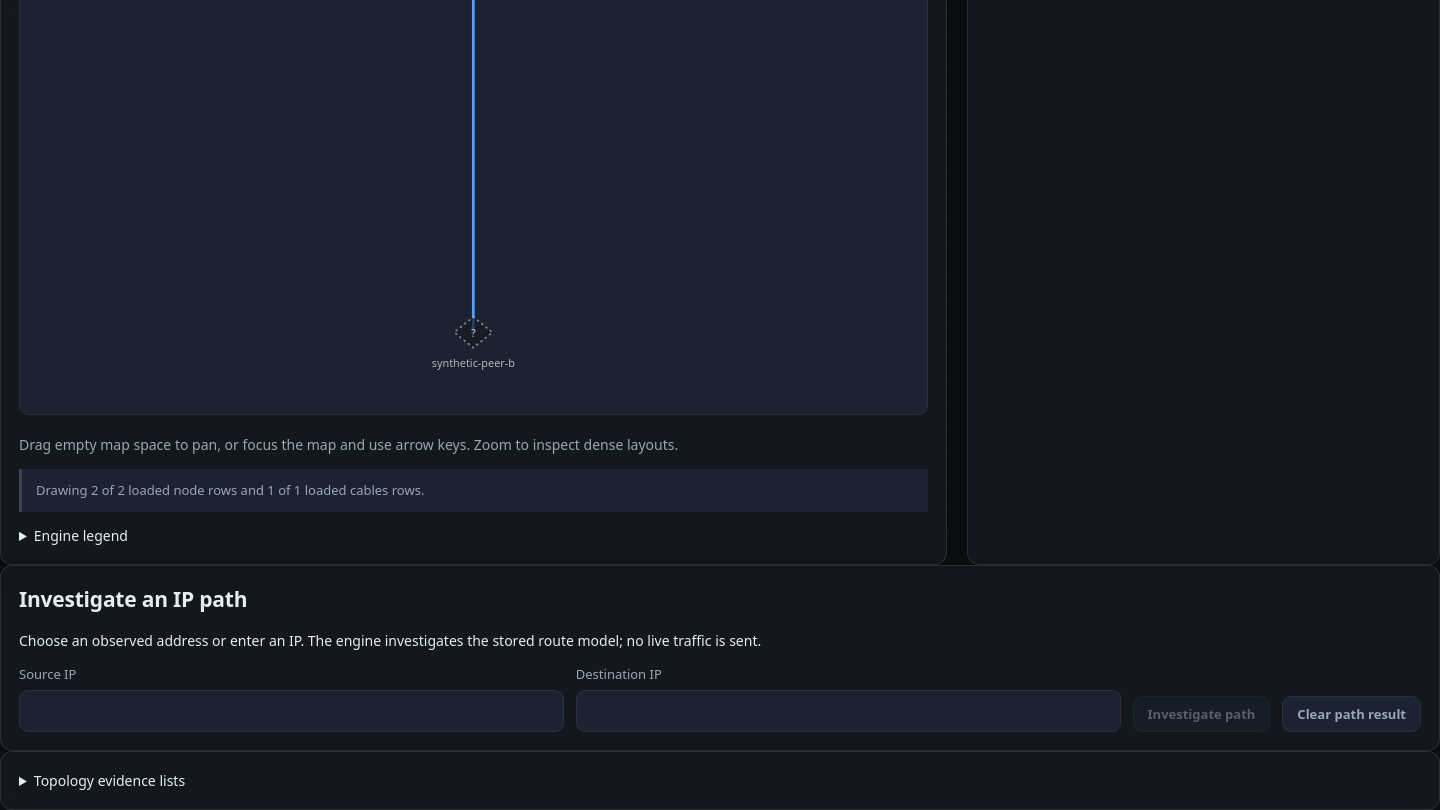
Test: Engine-owned topology and path screen › clears path/source presentation when the server identifies different snapshot authority
(page scrolled)
Type "192.0.2.10" into the field labelled "Source IP" at (291, 712), box left=19, top=690, right=564, bottom=732
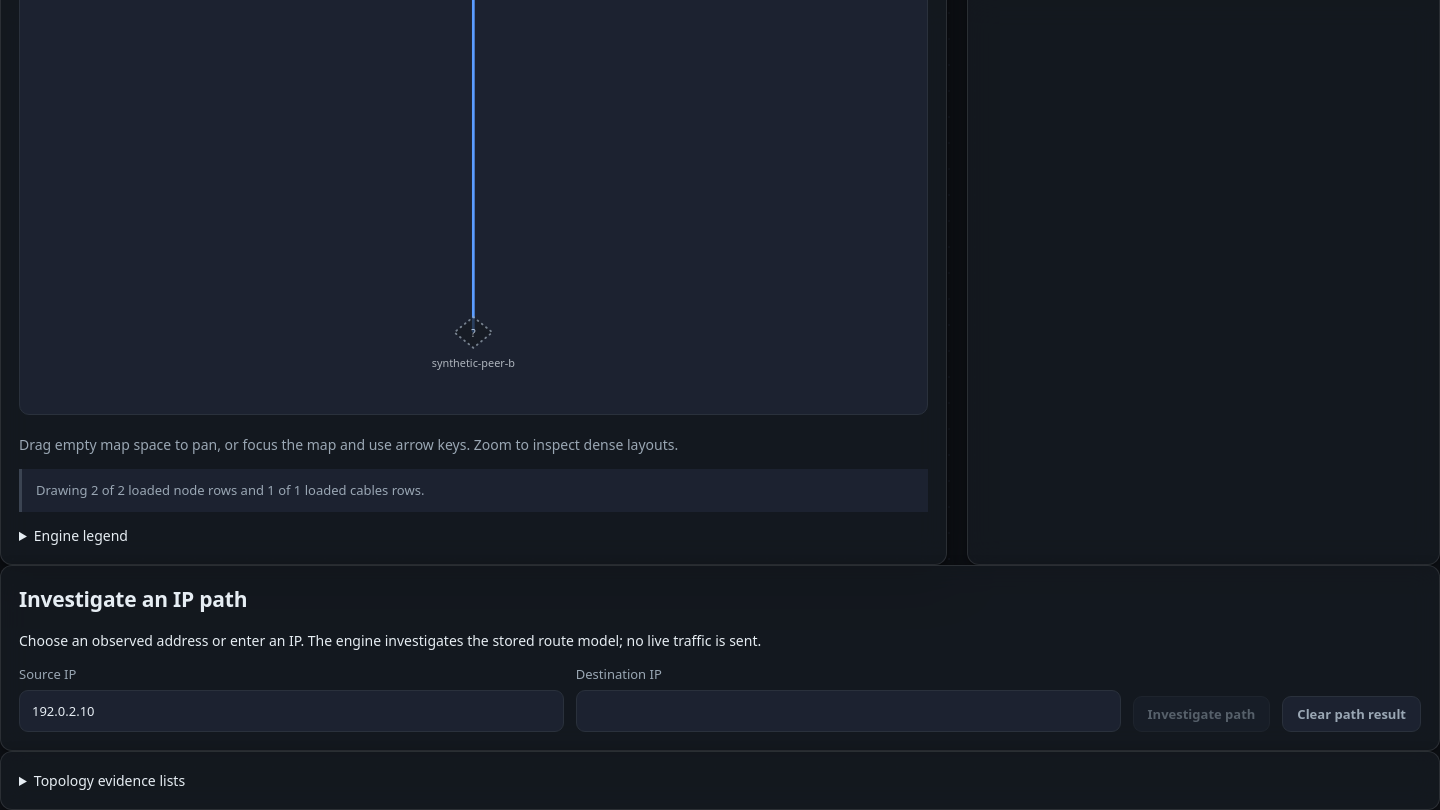
Type "198.51.100.10" into the field labelled "Destination IP" at (848, 712), box left=576, top=690, right=1121, bottom=732
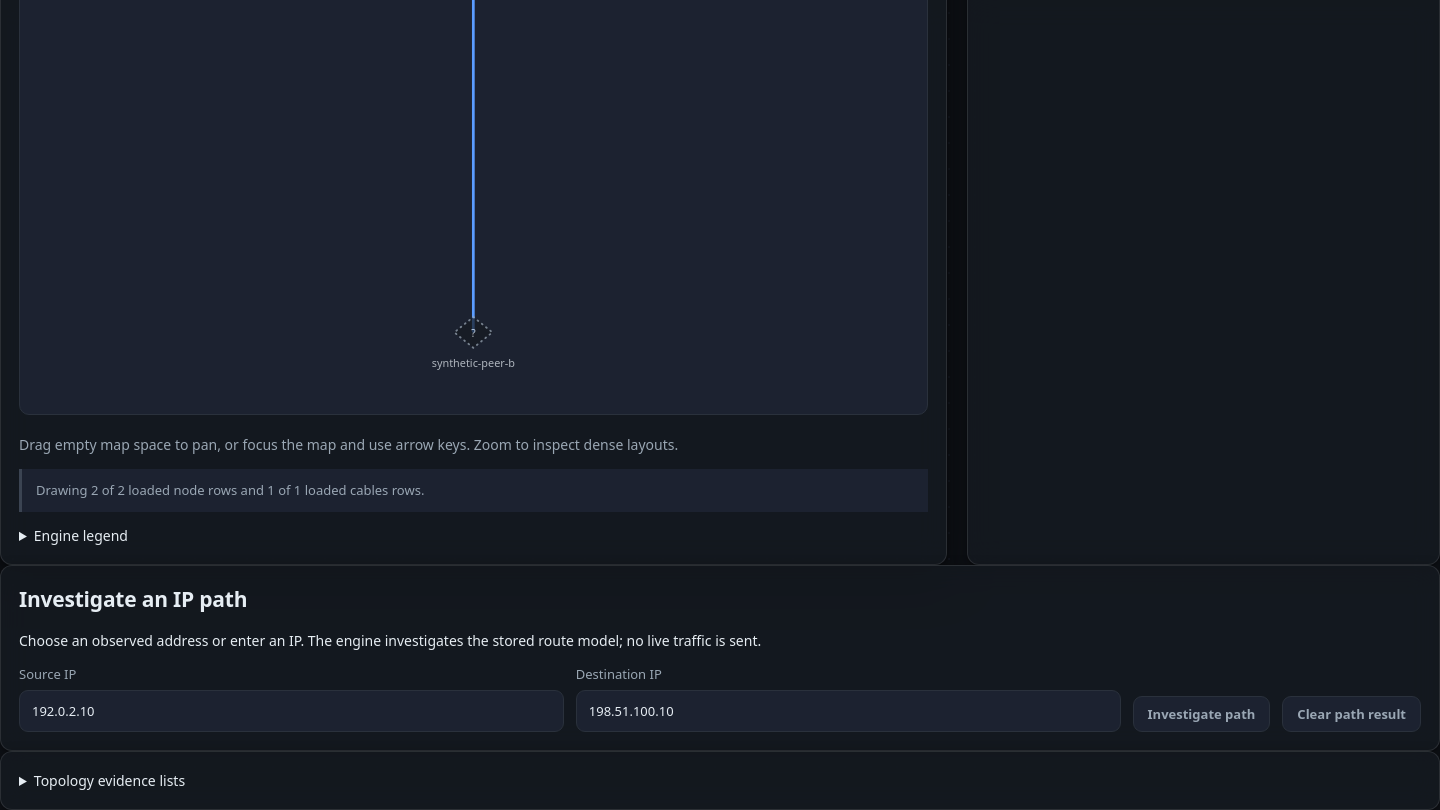
Click the button "Investigate path" at (1202, 714), box left=1133, top=696, right=1270, bottom=732
(page scrolled)
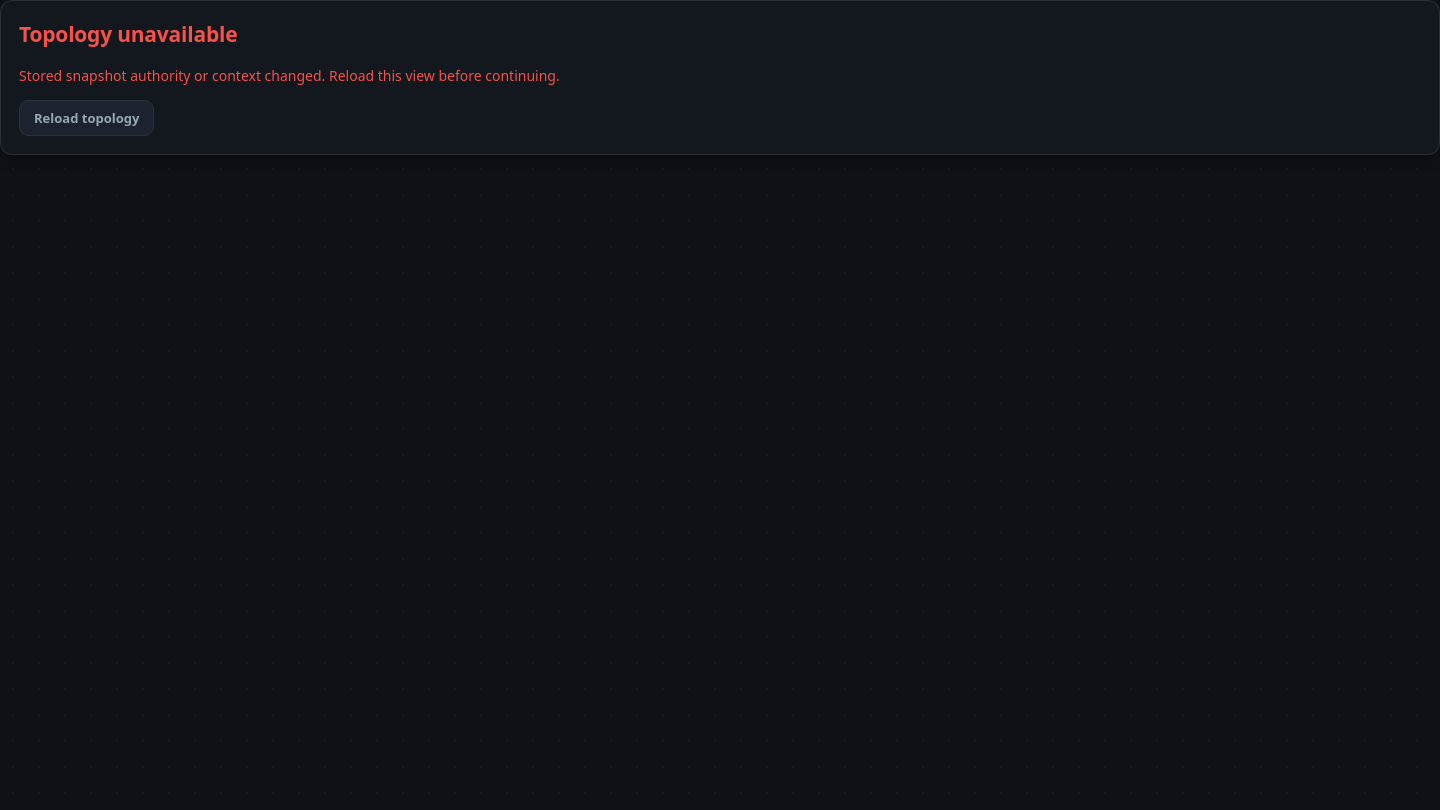
Expected: the message shows "Stored snapshot authority or context changed", left=19, top=66, right=560, bottom=84
